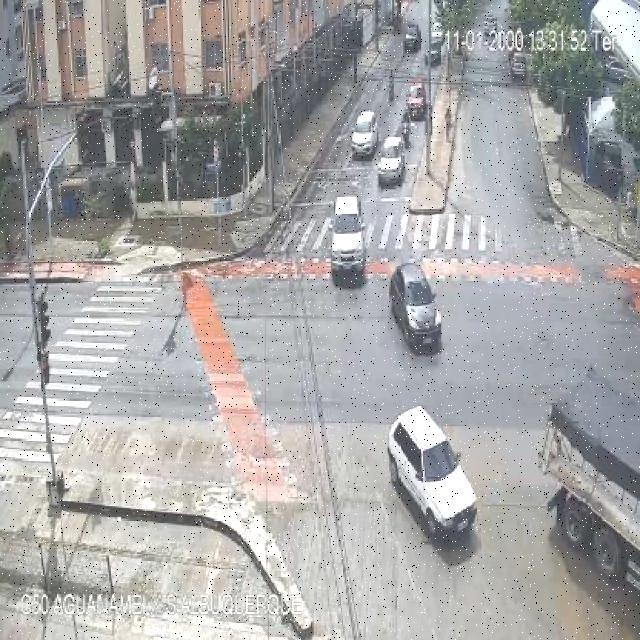Car: (387, 406, 477, 540), (390, 264, 444, 353), (329, 195, 366, 285), (376, 137, 406, 185), (350, 110, 379, 158), (405, 83, 427, 120), (404, 22, 421, 53), (509, 51, 527, 80), (604, 60, 627, 82), (482, 14, 498, 36)
Truck: (537, 352, 640, 590)
